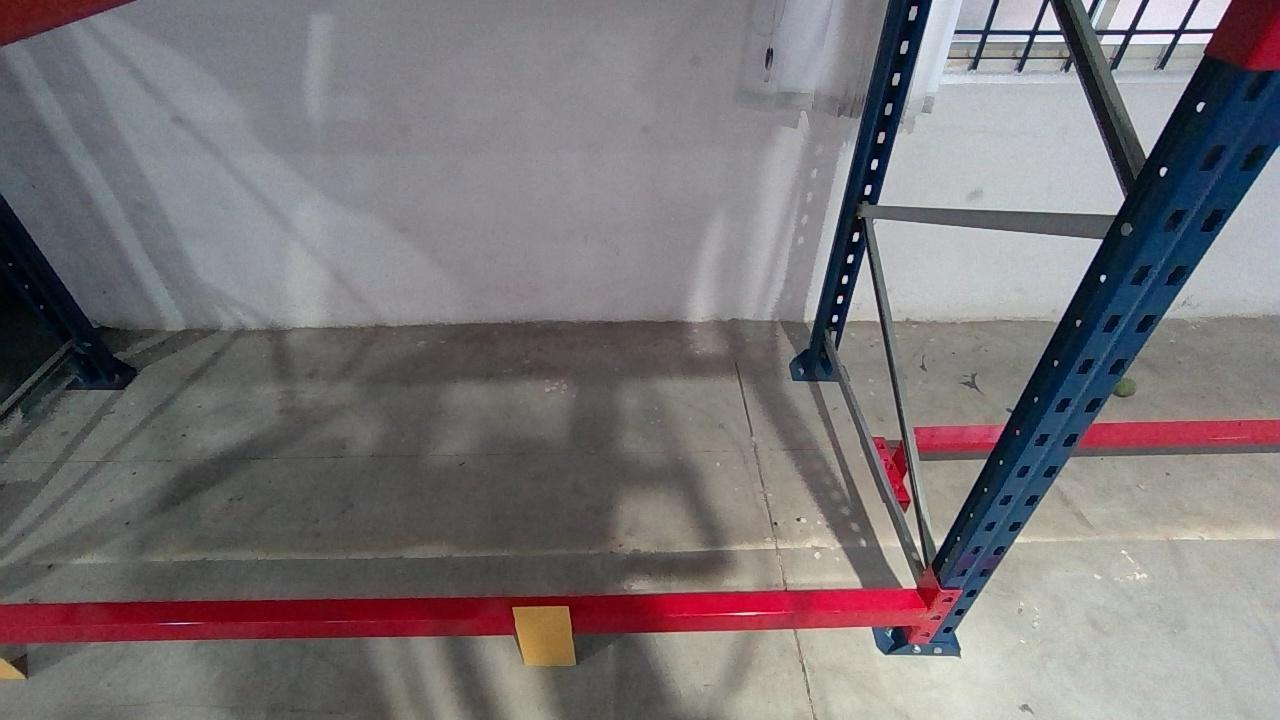h_rack: (4, 604, 938, 642)
orange_strip: (510, 605, 575, 665), (0, 655, 27, 678)
